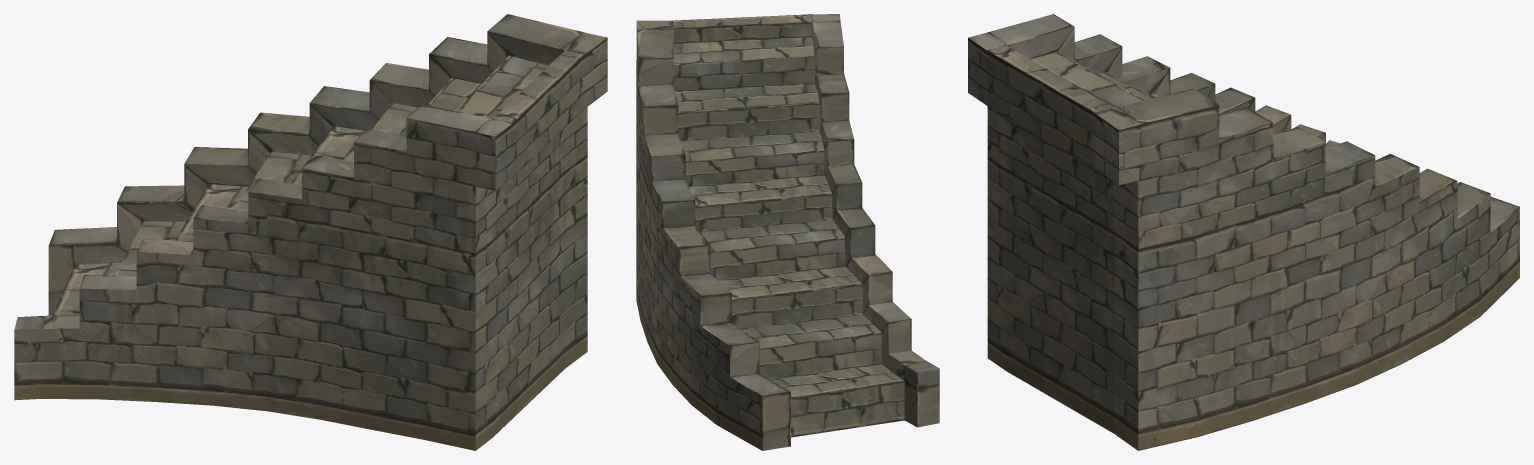
Rendered from C_Stair04.fbx.
3 views of the same model, side by side, from view 1: azimuth 30°, elevation 25°; view 2: azimuth 150°, elevation 25°; view 3: azimuth 270°, elevation 25° (orthographic). The views are drawn at different scales.
Visible parts, largest first — view 1: C_Stair04; view 2: C_Stair04; view 3: C_Stair04.
Boxes of the visible parts, x1=… form: C_Stair04: x1=14, y1=14, x2=607, y2=450; C_Stair04: x1=636, y1=14, x2=939, y2=450; C_Stair04: x1=968, y1=14, x2=1519, y2=450.
Size of the model in its own units: 349 by 217 by 333.
